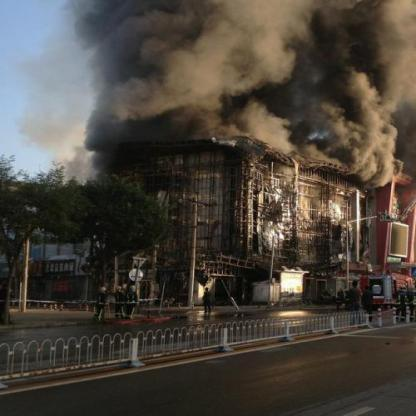smoke: (174, 6, 290, 136), (74, 5, 173, 127), (296, 69, 404, 157), (290, 3, 413, 67)
